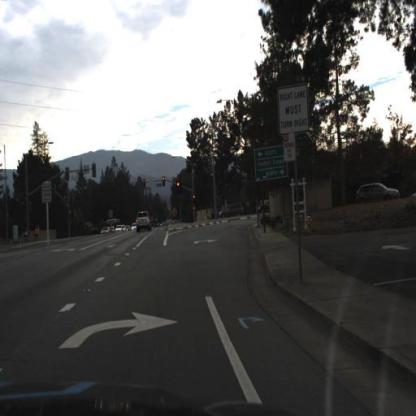car: (356, 180, 401, 205), (135, 208, 154, 236), (220, 203, 245, 219)
trafficLight-Red: (162, 174, 167, 190), (177, 180, 182, 196), (192, 194, 197, 205)
trafficLight-RedLeft: (142, 176, 148, 192)
